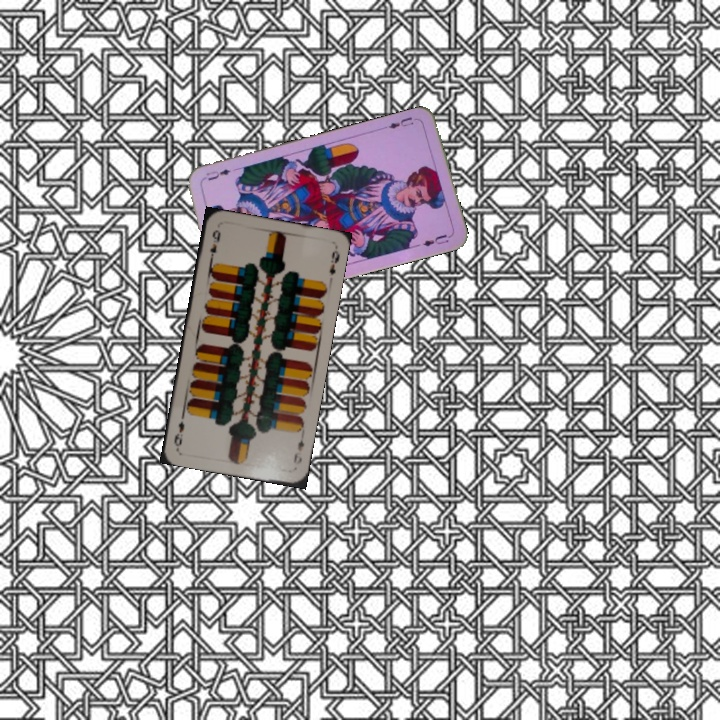E9: (206, 226, 223, 264), (290, 431, 307, 467)
EU: (381, 113, 421, 132)
